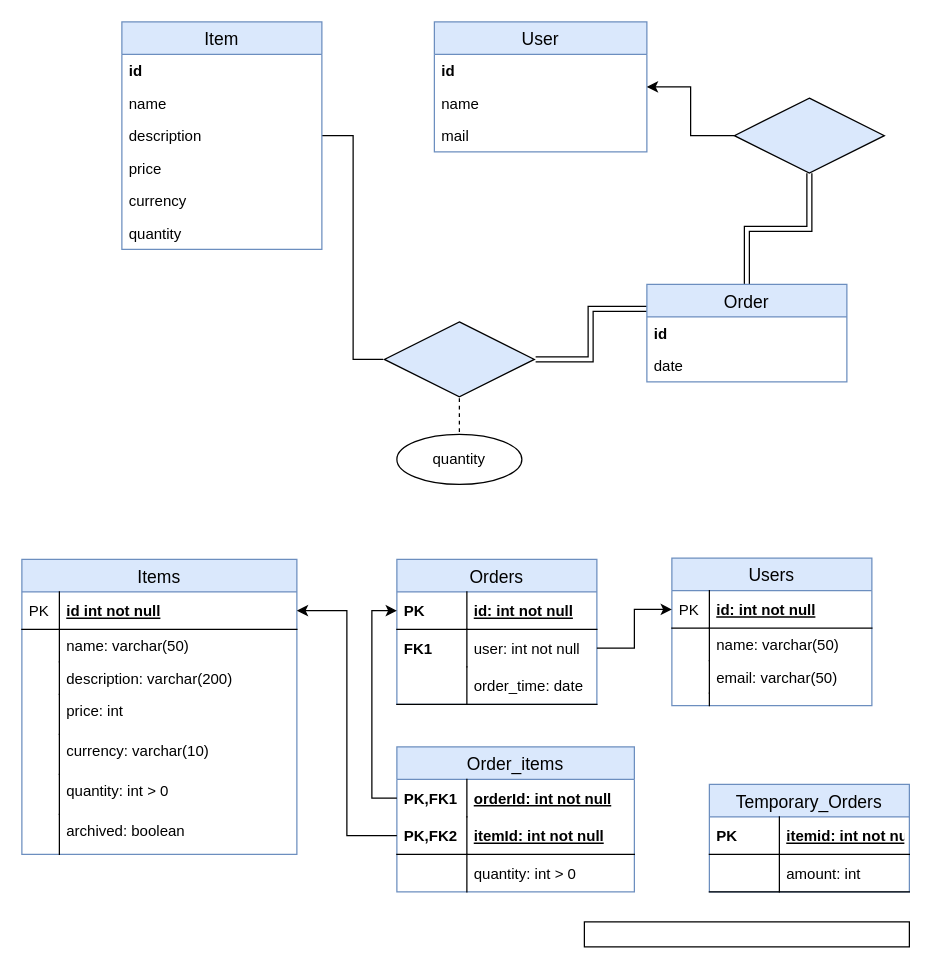
The diagram is 936 pixels wide and 969 high, and some of its shapes have lost their labels. The centre of each missing label's shape, as x and y in pixels:
"contains" goes at [458,359].
"owns" goes at [808,135].
"Proc: addOrder(userId, orderId)" goes at [746,934].
